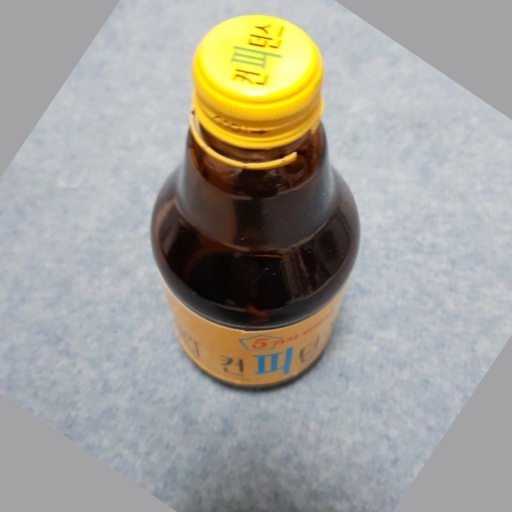Glass_3: (153, 15, 361, 398)
